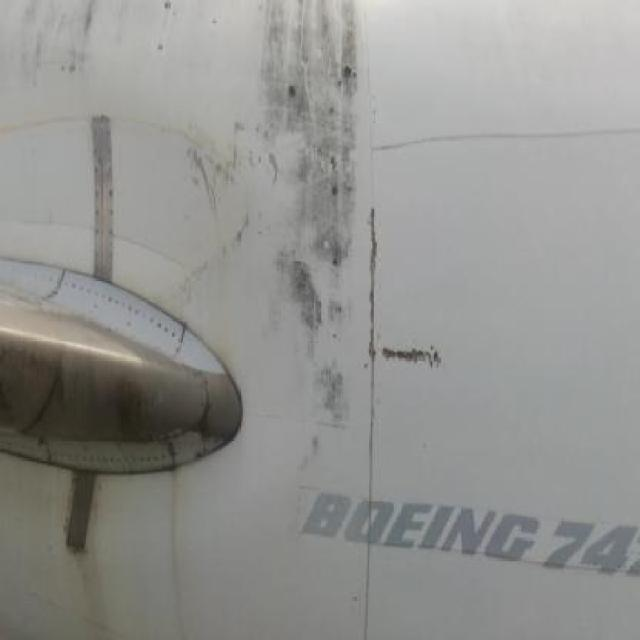Missing-Rivet: (59, 272, 181, 353), (47, 442, 175, 482), (93, 118, 122, 272)
Rust: (256, 2, 362, 464), (1, 4, 248, 85), (39, 467, 142, 638), (159, 448, 204, 627)
Scartch: (168, 101, 288, 296), (361, 192, 456, 382)
